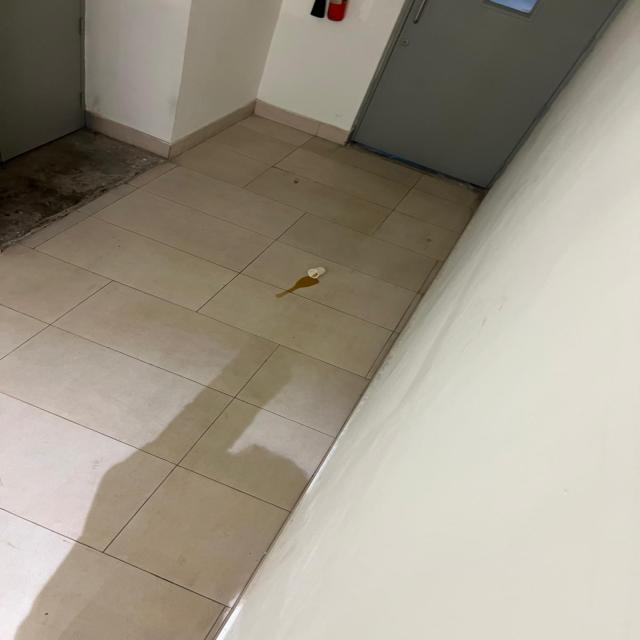cup: (307, 267, 328, 278)
spill: (287, 276, 316, 288)
